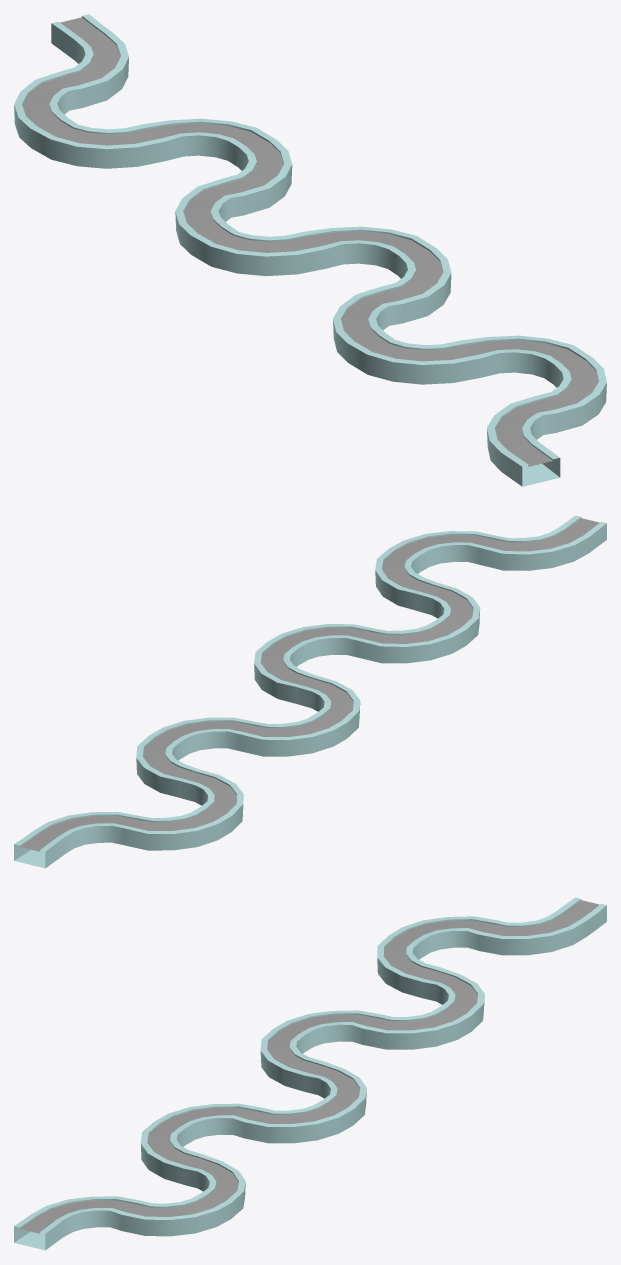
The model's file is snke.fbx.
The picture shows the model from 3 angles, top to bottom: view 1: azimuth 30°, elevation 25°; view 2: azimuth 150°, elevation 25°; view 3: azimuth 330°, elevation 25°; orthographic projection. The views are drawn at different scales.
Visible parts, largest first — view 1: snke; view 2: snke; view 3: snke.
Part boxes in pixels (x1,y1,x2,y2): snke: (14,14,606,486); snke: (14,515,606,868); snke: (14,897,606,1250).
Bounding box in the file's own units: 1009 × 111 × 5345.
